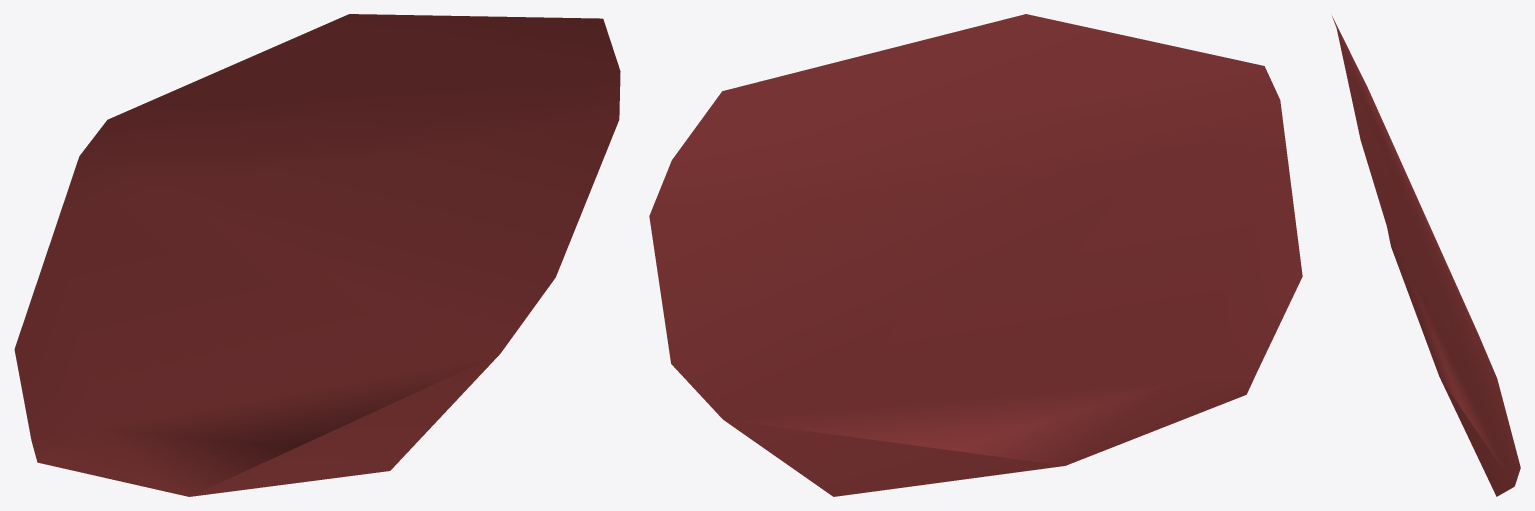
File: longissimus-thoracis-muscle-e16l.glb
3 renders of one model, left to right at view 1: azimuth 30°, elevation 25°; view 2: azimuth 150°, elevation 25°; view 3: azimuth 270°, elevation 25°, orthographic. The views are drawn at different scales.
Parts seen in each view (by area): view 1: Longissimus thoracis muscle.e16l; view 2: Longissimus thoracis muscle.e16l; view 3: Longissimus thoracis muscle.e16l.
Part boxes in pixels (<box>): Longissimus thoracis muscle.e16l: <box>14,14,620,496</box>; Longissimus thoracis muscle.e16l: <box>649,14,1302,496</box>; Longissimus thoracis muscle.e16l: <box>1332,16,1520,496</box>.
Bounding box in the file's own units: 0.00742 × 0.00564 × 0.00265.
